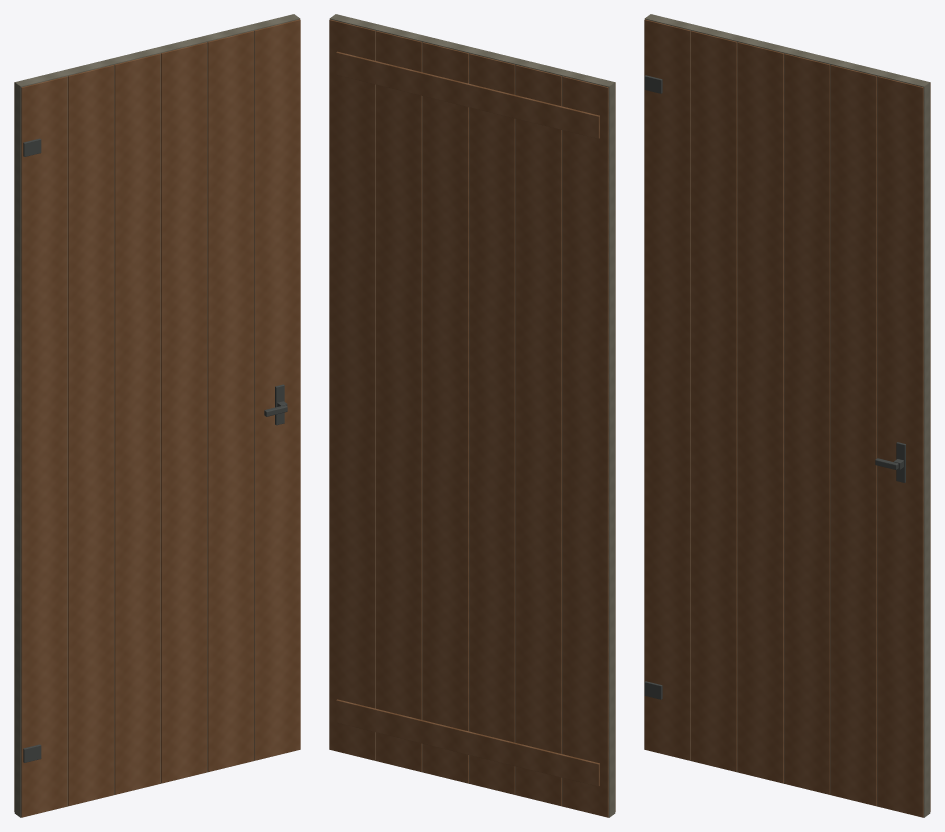
File: MRP_DoorLeaf_Single.fbx
3 renders of one model, left to right at view 1: azimuth 30°, elevation 25°; view 2: azimuth 150°, elevation 25°; view 3: azimuth 330°, elevation 25°, orthographic.
Parts seen in each view (by area): view 1: MRP_DoorLeaf_Single_Hinge_Mesh; view 2: MRP_DoorLeaf_Single_Hinge_Mesh; view 3: MRP_DoorLeaf_Single_Hinge_Mesh.
Part boxes in pixels (x1,y1,x2,y2): MRP_DoorLeaf_Single_Hinge_Mesh: [14, 14, 300, 817]; MRP_DoorLeaf_Single_Hinge_Mesh: [329, 14, 615, 817]; MRP_DoorLeaf_Single_Hinge_Mesh: [644, 14, 930, 817].
Size of the model in its own units: 0.84 by 2.1 by 0.082.
